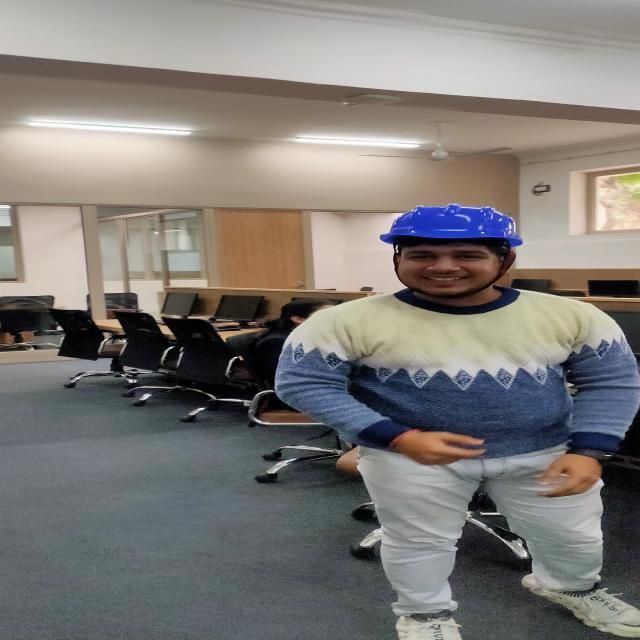no jacket: (273, 205, 640, 640)
